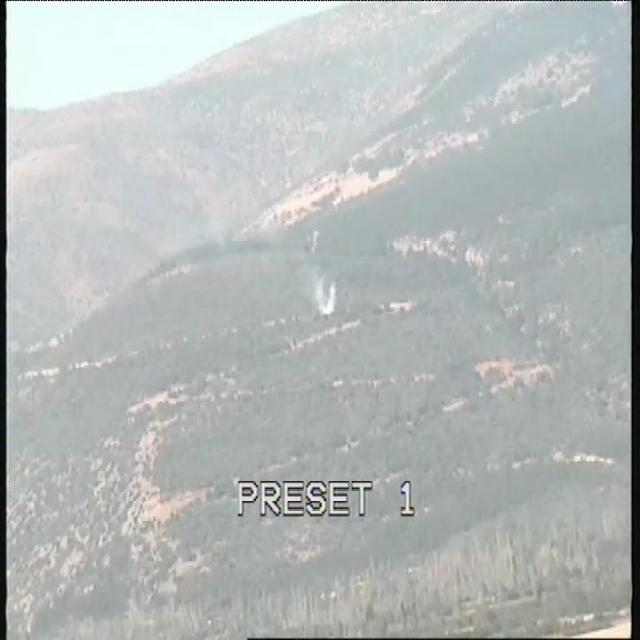smoke: (306, 258, 342, 323)
